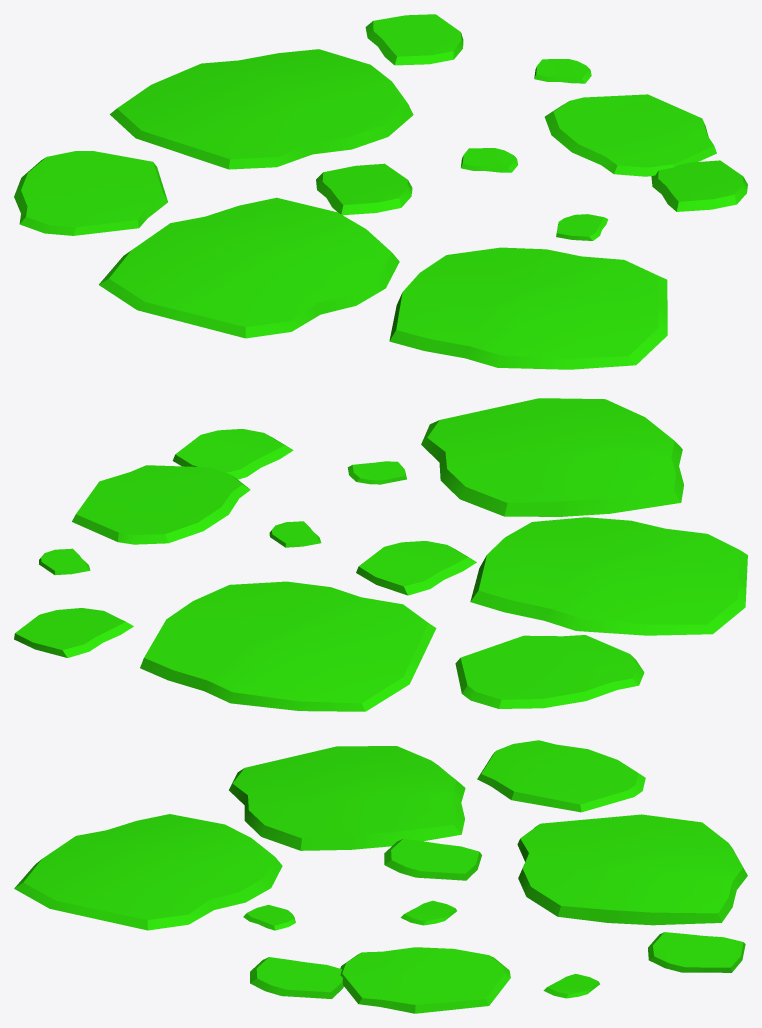
The model's file is Debris_Concrete_02B.fbx.
3 renders of one model, top to bottom at view 1: azimuth 30°, elevation 25°; view 2: azimuth 150°, elevation 25°; view 3: azimuth 270°, elevation 25°, orthographic. The views are drawn at different scales.
Visible parts, largest first — view 1: Debris_Concrete_02B; view 2: Debris_Concrete_02B; view 3: Debris_Concrete_02B.
Part boxes in pixels (x1,y1,x2,y2): Debris_Concrete_02B: (14, 14, 747, 369); Debris_Concrete_02B: (14, 398, 747, 711); Debris_Concrete_02B: (14, 740, 747, 1013).
Bounding box in the file's own units: 246 × 8.45 × 284.
